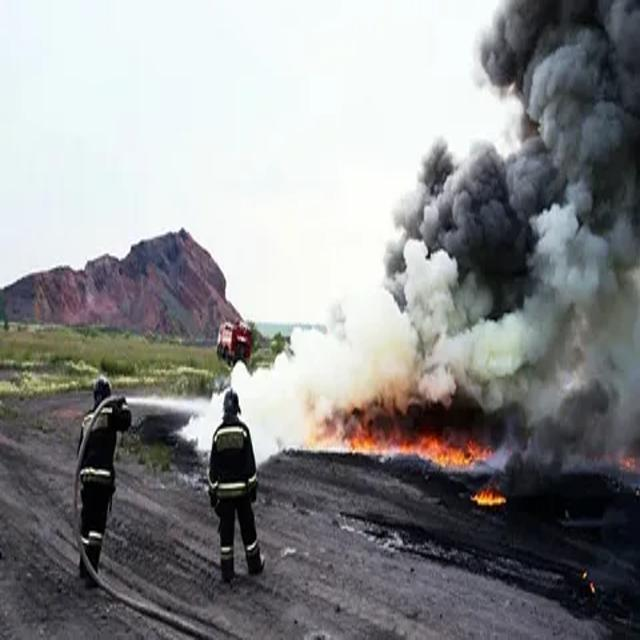Smoke: (367, 1, 640, 425)
